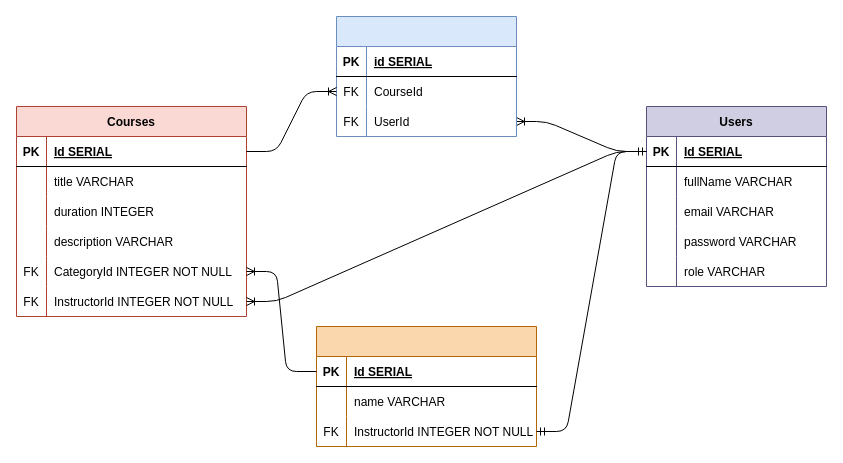
Image size: 843x463. Some labels were removed from this diagram. Each missing label, with the box of its shape:
Categories: (316, 326, 536, 446)
UserCourses: (336, 16, 516, 136)
